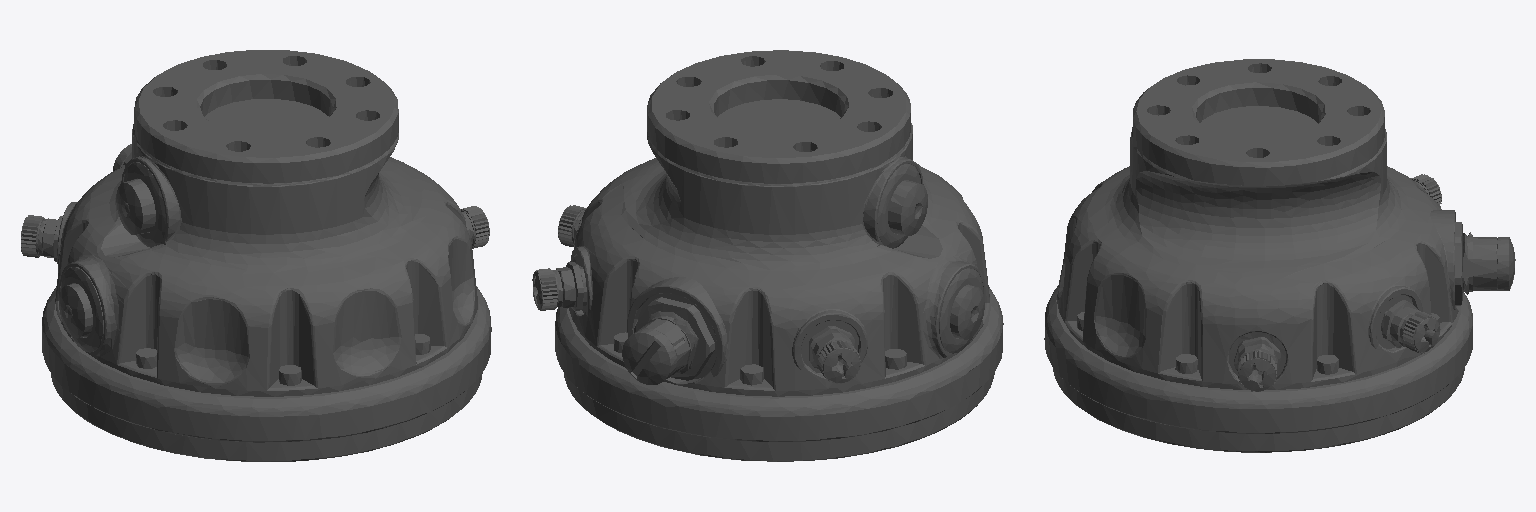
URDF robot description (iiwa_1):
<?xml version="1.0" ?>
<!-- =================================================================================== -->
<!-- |    This document was autogenerated by xacro from iiwa_striker.urdf.xacro        | -->
<!-- |    EDITING THIS FILE BY HAND IS NOT RECOMMENDED                                 | -->
<!-- =================================================================================== -->
<robot name="iiwa_1">
  <material name="Black">
    <color rgba="0.0 0.0 0.0 1.0"/>
  </material>
  <material name="Blue">
    <color rgba="0.0 0.0 0.8 1.0"/>
  </material>
  <material name="Green">
    <color rgba="0.0 0.8 0.0 1.0"/>
  </material>
  <material name="Grey">
    <color rgba="0.4 0.4 0.4 1.0"/>
  </material>
  <material name="Orange">
    <color rgba="1.0 0.4235294117647059 0.0392156862745098 1.0"/>
  </material>
  <material name="Brown">
    <color rgba="0.8705882352941177 0.8117647058823529 0.7647058823529411 1.0"/>
  </material>
  <material name="Red">
    <color rgba="0.8 0.0 0.0 1.0"/>
  </material>
  <material name="White">
    <color rgba="1.0 1.0 1.0 1.0"/>
  </material>
  <material name="LightGrey">
    <color rgba="0.3 0.3 0.3 1.0"/>
  </material>
  <link name="world"/>
  <!--joint between {parent} and link_0-->
  <joint name="iiwa_1/base_joint" type="fixed">
    <origin rpy="0 0 0" xyz="0 0 0"/>
    <parent link="world"/>
    <child link="iiwa_1/link_0"/>
  </joint>
  <link name="iiwa_1/link_0">
    <inertial>
      <origin rpy="0 0 0" xyz="-0.1 0 0.07"/>
      <mass value="5"/>
      <inertia ixx="0.05" ixy="0" ixz="0" iyy="0.06" iyz="0" izz="0.03"/>
    </inertial>
    <visual>
      <origin rpy="0 0 0" xyz="0 0 0"/>
      <geometry>
        <mesh filename="meshes/visual/link_0.stl"/>
      </geometry>
      <material name="Grey"/>
    </visual>
    <collision>
      <origin rpy="0 0 0" xyz="0 0 0"/>
      <geometry>
        <mesh filename="meshes/collision/link_0.stl"/>
      </geometry>
      <material name="Grey"/>
    </collision>
    <self_collision_checking>
      <origin rpy="0 0 0" xyz="0 0 0"/>
      <geometry>
        <capsule length="0.25" radius="0.15"/>
      </geometry>
    </self_collision_checking>
  </link>
  <!-- joint between link_0 and link_1 -->
  <joint name="iiwa_1/joint_1" type="revolute">
    <parent link="iiwa_1/link_0"/>
    <child link="iiwa_1/link_1"/>
    <origin rpy="0 0 0" xyz="0 0 0.1575"/>
    <axis xyz="0 0 1"/>
    <limit effort="320" lower="-2.9670597283903604" upper="2.9670597283903604" velocity="1.4835298641951802"/>
    <safety_controller k_position="100" k_velocity="10" soft_lower_limit="-2.9321531433504737" soft_upper_limit="2.9321531433504737"/>
    <!--      <dynamics damping="0.24150"  friction="0.31909"/> &lt;!&ndash; ETH &ndash;&gt;-->
    <dynamics damping="0.330320" friction="0.384477"/>
  </joint>
  <link name="iiwa_1/link_1">
    <inertial>
      <!-- ETH
          <origin xyz="-0.003508 0.001602 -0.03139" rpy="0 0 0"/>
          <mass value="3.947808"/>
          <inertia ixx="0.004554"  ixy="0.00000"  ixz="-0.00000" iyy="0.00454" iyz="0.00001" izz="0.00029" />
          -->
      <mass value="2.356723"/>
      <origin rpy="0 0 0" xyz="0.000000 0.000000 -0.249990"/>
      <!--          <inertia ixx="0.099939"  ixy="-0.000029"  iyy="0.099716" ixz="-0.000026" iyz="0.000099" izz="0.001000" />-->
      <inertia ixx="0.1" ixy="0" ixz="0" iyy="0.1" iyz="0" izz="0.01"/>
    </inertial>
    <visual>
      <origin rpy="0 0 0" xyz="0 0 0"/>
      <geometry>
        <mesh filename="meshes/visual/link_1.stl"/>
      </geometry>
      <material name="Orange"/>
    </visual>
    <collision>
      <origin rpy="0 0 0" xyz="0 0 0"/>
      <geometry>
        <mesh filename="meshes/collision/link_1.stl"/>
      </geometry>
      <material name="Orange"/>
    </collision>
  </link>
  <!-- joint between link_1 and link_2 -->
  <joint name="iiwa_1/joint_2" type="revolute">
    <parent link="iiwa_1/link_1"/>
    <child link="iiwa_1/link_2"/>
    <origin rpy="1.5707963267948966   0 3.141592653589793" xyz="0 0 0.2025"/>
    <axis xyz="0 0 1"/>
    <limit effort="320" lower="-2.0943951023931953" upper="2.0943951023931953" velocity="1.4835298641951802"/>
    <safety_controller k_position="100" k_velocity="10" soft_lower_limit="-2.0594885173533086" soft_upper_limit="2.0594885173533086"/>
    <!--      <dynamics damping="0.37328"  friction="0.18130"/> &lt;!&ndash; ETH &ndash;&gt;-->
    <dynamics damping="0.212160" friction="0.496333"/>
  </joint>
  <link name="iiwa_1/link_2">
    <inertial>
      <!-- ETH
          <mass value="4.502752"/>
          <origin xyz="-0.007671 0.166693  -0.003551" rpy="0 0 0"/>
          <inertia ixx="0.00032"  ixy="0.00000"  ixz="0.000007" iyy="0.000100" iyz="-0.000003" izz="0.000419" />
          -->
      <mass value="6.000000"/>
      <origin rpy="0 0 0" xyz="-0.004595 0.150863 0.028496"/>
      <inertia ixx="0.030001" ixy="-0.000999" ixz="0.000999" iyy="0.010000" iyz="-0.000999" izz="0.030001"/>
    </inertial>
    <visual>
      <origin rpy="0 0 0" xyz="0 0 0"/>
      <geometry>
        <mesh filename="meshes/visual/link_2.stl"/>
      </geometry>
      <material name="Orange"/>
    </visual>
    <collision>
      <origin rpy="0 0 0" xyz="0 0 0"/>
      <geometry>
        <mesh filename="meshes/collision/link_2.stl"/>
      </geometry>
      <material name="Orange"/>
    </collision>
  </link>
  <!-- joint between link_2 and link_3 -->
  <joint name="iiwa_1/joint_3" type="revolute">
    <parent link="iiwa_1/link_2"/>
    <child link="iiwa_1/link_3"/>
    <origin rpy="1.5707963267948966 0 3.141592653589793" xyz="0 0.2045 0"/>
    <axis xyz="0 0 1"/>
    <limit effort="176" lower="-2.9670597283903604" upper="2.9670597283903604" velocity="1.7453292519943295"/>
    <safety_controller k_position="100" k_velocity="10" soft_lower_limit="-2.9321531433504737" soft_upper_limit="2.9321531433504737"/>
    <!--      <dynamics damping="0.11025"  friction="0.07302"/> &lt;!&ndash; ETH &ndash;&gt;-->
    <dynamics damping="0.100000" friction="0.173951"/>
  </joint>
  <link name="iiwa_1/link_3">
    <inertial>
      <!-- ETH
          <mass value="2.455197"/>
          <origin xyz="-0.002246 -0.034918 -0.02652" rpy="0 0 0"/>
          <inertia ixx="0.002233"  ixy="-0.000046"  ixz="0.000068" iyy="0.002191" iyz="0.000072" izz="0.000725" />
          -->
      <mass value="6.00000"/>
      <origin rpy="0 0 0" xyz="-0.006630 -0.001947 -0.057071"/>
      <inertia ixx="0.03001" ixy="-0.000999" ixz="0.000999" iyy="0.030001" iyz="-0.000999" izz="0.010000"/>
    </inertial>
    <visual>
      <origin rpy="0 0 0" xyz="0 0 0"/>
      <geometry>
        <mesh filename="meshes/visual/link_3.stl"/>
      </geometry>
      <material name="Orange"/>
    </visual>
    <collision>
      <origin rpy="0 0 0" xyz="0 0 0"/>
      <geometry>
        <mesh filename="meshes/collision/link_3.stl"/>
      </geometry>
      <material name="Orange"/>
    </collision>
  </link>
  <!-- joint between link_3 and link_4 -->
  <joint name="iiwa_1/joint_4" type="revolute">
    <parent link="iiwa_1/link_3"/>
    <child link="iiwa_1/link_4"/>
    <origin rpy="1.5707963267948966 0 0" xyz="0 0 0.2155"/>
    <axis xyz="0 0 1"/>
    <limit effort="176" lower="-2.0943951023931953" upper="2.0943951023931953" velocity="1.3089969389957472"/>
    <safety_controller k_position="100" k_velocity="10" soft_lower_limit="-2.0594885173533086" soft_upper_limit="2.0594885173533086"/>
    <!--      <dynamics damping="0.10000"  friction="0.17671"/> &lt;!&ndash; ETH &ndash;&gt;-->
    <dynamics damping="0.219041" friction="0.375100"/>
  </joint>
  <link name="iiwa_1/link_4">
    <inertial>
      <!-- ETH
          <mass value="2.611550"/>
          <origin xyz="0.000196 -0.052679 0.038182" rpy="0 0 0"/>
          <inertia ixx="0.038444"  ixy="0.000880"  ixz="-0.001120" iyy="0.011437" iyz="-0.001113" izz=" 0.049880" />
          -->
      <mass value="1.224529"/>
      <origin rpy="0 0 0" xyz="0.044234 0.050000 0.006944"/>
      <inertia ixx="0.003001" ixy="0.000099" ixz="-0.000099" iyy="0.001000" iyz="0.000099" izz="0.003001"/>
    </inertial>
    <visual>
      <origin rpy="0 0 0" xyz="0 0 0"/>
      <geometry>
        <mesh filename="meshes/visual/link_4.stl"/>
      </geometry>
      <material name="Orange"/>
    </visual>
    <collision>
      <origin rpy="0 0 0" xyz="0 0 0"/>
      <geometry>
        <mesh filename="meshes/collision/link_4.stl"/>
      </geometry>
      <material name="Orange"/>
    </collision>
  </link>
  <!-- joint between link_4 and link_5 -->
  <joint name="iiwa_1/joint_5" type="revolute">
    <parent link="iiwa_1/link_4"/>
    <child link="iiwa_1/link_5"/>
    <origin rpy="-1.5707963267948966 3.141592653589793 0" xyz="0 0.1845 0"/>
    <axis xyz="0 0 1"/>
    <limit effort="110" lower="-2.9670597283903604" upper="2.9670597283903604" velocity="2.2689280275926285"/>
    <safety_controller k_position="100" k_velocity="10" soft_lower_limit="-2.9321531433504737" soft_upper_limit="2.9321531433504737"/>
    <!--      <dynamics damping="0.10000"  friction="0.03463"/> &lt;!&ndash; ETH &ndash;&gt;-->
    <dynamics damping="0.185923" friction="0.481099"/>
  </joint>
  <link name="iiwa_1/link_5">
    <inertial>
      <!-- ETH
          <mass value="3.410009"/>
          <origin xyz="0.000054  -0.002367 -0.21134" rpy="0 0 0"/>
          <inertia ixx="0.002769"  ixy="-0.000008"  ixz="0.000006" iyy="0.002842" iyz="-0.000001" izz="0.000117" />
          -->
      <mass value="6.00000"/>
      <origin rpy="0 0 0" xyz="-0.002930 0.015256 0.035846"/>
      <inertia ixx="0.003001" ixy="-0.000099" ixz="-0.000099" iyy="0.003001" iyz="0.000099" izz="0.001000"/>
    </inertial>
    <visual>
      <origin rpy="0 0 0" xyz="0 0 0"/>
      <geometry>
        <mesh filename="meshes/visual/link_5.stl"/>
      </geometry>
      <material name="Orange"/>
    </visual>
    <collision>
      <origin rpy="0 0 0" xyz="0 0 0"/>
      <geometry>
        <mesh filename="meshes/collision/link_5.stl"/>
      </geometry>
      <material name="Orange"/>
    </collision>
  </link>
  <!-- joint between link_5 and link_6 -->
  <joint name="iiwa_1/joint_6" type="revolute">
    <parent link="iiwa_1/link_5"/>
    <child link="iiwa_1/link_6"/>
    <origin rpy="1.5707963267948966 0 0" xyz="0 0 0.2155"/>
    <axis xyz="0 0 1"/>
    <limit effort="40" lower="-2.0943951023931953" upper="2.0943951023931953" velocity="2.356194490192345"/>
    <safety_controller k_position="100" k_velocity="10" soft_lower_limit="-2.0594885173533086" soft_upper_limit="2.0594885173533086"/>
    <!--      <dynamics damping="0.12484"  friction="0.13391"/> &lt;!&ndash; ETH &ndash;&gt;-->
    <dynamics damping="0.100000" friction="0.196149"/>
  </joint>
  <link name="iiwa_1/link_6">
    <inertial>
      <!-- ETH
          <mass value="3.387949"/>
          <origin xyz="0.000492  0.020190  -0.027496" rpy="0 0 0"/>
          <inertia ixx="0.000500"  ixy="-0.000050"  ixz="-0.000024" iyy="0.002809" iyz="-0.000041" izz="0.002315" />
          -->
      <mass value="1.410742"/>
      <origin rpy="0 0 0" xyz="0.015383 -0.046263 0.011131"/>
      <inertia ixx="0.001000" ixy="0.000099" ixz="0.000099" iyy="0.001000" iyz="0.000099" izz="0.001000"/>
    </inertial>
    <visual>
      <origin rpy="0 0 0" xyz="0 0 0"/>
      <geometry>
        <mesh filename="meshes/visual/link_6.stl"/>
      </geometry>
      <material name="Orange"/>
    </visual>
    <collision>
      <origin rpy="0 0 0" xyz="0 0 0"/>
      <geometry>
        <mesh filename="meshes/collision/link_6.stl"/>
      </geometry>
      <material name="Orange"/>
    </collision>
  </link>
  <!-- joint between link_6 and link_7 -->
  <joint name="iiwa_1/joint_7" type="revolute">
    <parent link="iiwa_1/link_6"/>
    <child link="iiwa_1/link_7"/>
    <origin rpy="-1.5707963267948966 3.141592653589793 0" xyz="0 0.081 0"/>
    <axis xyz="0 0 1"/>
    <limit effort="40" lower="-3.0543261909900763" upper="3.0543261909900763" velocity="2.356194490192345"/>
    <safety_controller k_position="100" k_velocity="10" soft_lower_limit="-3.01941960595019" soft_upper_limit="3.01941960595019"/>
    <!--      <dynamics damping="0.10000"  friction="0.08710"/> &lt;!&ndash; ETH &ndash;&gt;-->
    <dynamics damping="0.100000" friction="0.299238"/>
  </joint>
  <link name="iiwa_1/link_7">
    <inertial>
      <!-- ETH
          <mass value="0.354321"/>
          <origin xyz="-0.034656 -0.023242 0.07138" rpy="0 0 0"/>
          <inertia ixx="0.007946"  ixy="0.000221"  ixz="-0.000294" iyy=" 0.010889" iyz="-0.000294" izz="0.002944" />
          -->
      <mass value="1.00000"/>
      <origin rpy="0 0 0" xyz="0.001241 0.004168 0.100000"/>
      <inertia ixx="0.001000" ixy="-0.000099" ixz="-0.000099" iyy="0.001000" iyz="0.000099" izz="0.001000"/>
    </inertial>
    <visual>
      <origin rpy="0 0 0" xyz="0 0 0"/>
      <geometry>
        <mesh filename="meshes/visual/link_7.stl"/>
      </geometry>
      <material name="Grey"/>
    </visual>
    <collision>
      <origin rpy="0 0 0" xyz="0 0 0"/>
      <geometry>
        <mesh filename="meshes/collision/link_7.stl"/>
      </geometry>
      <material name="Grey"/>
    </collision>
  </link>
  <joint name="iiwa_1/joint_ee" type="fixed">
    <parent link="iiwa_1/link_7"/>
    <child link="iiwa_1/link_ee"/>
    <origin rpy="0 0 0" xyz="0 0 0.07"/>
  </joint>
  <link name="iiwa_1/link_ee">
    <inertial>
      <origin rpy="0 0 0" xyz="0 0 0.0"/>
      <mass value="0.0"/>
      <inertia ixx="0.0" ixy="0.0" ixz="0.0" iyy="0.0" iyz="0.0" izz="0.0"/>
    </inertial>
  </link>
  <joint name="iiwa_1/striker" type="fixed">
    <parent link="iiwa_1/link_ee"/>
    <child link="iiwa_1/striker_base"/>
    <origin rpy="0 0 0" xyz="0.0 0.0 0.0"/>
  </joint>
  <link name="iiwa_1/striker_base">
    <inertial>
      <origin rpy="0 0 0" xyz="0 0 0.156"/>
      <mass value="0.350"/>
      <!--                <inertia ixx="0.000297" ixy="0.0" ixz="0.0"-->
      <!--                         iyy="0.000271" iyz="0.0" izz="0.0000653"/>-->
      <inertia ixx="0.005" ixy="0.0" ixz="0.0" iyy="0.005" iyz="0.0" izz="0.001"/>
    </inertial>
    <visual>
      <origin rpy="0 0.0 0" xyz="0 0 0"/>
      <geometry>
        <mesh filename="meshes/striker/visual/EE_arm.stl"/>
      </geometry>
      <material name="LightGrey"/>
    </visual>
    <collision>
      <origin rpy="0 0 0" xyz="0 0 0"/>
      <geometry>
        <mesh filename="meshes/striker/collision/EE_arm_collision.stl"/>
      </geometry>
    </collision>
  </link>
  <joint name="iiwa_1/extension" type="fixed">
    <parent link="iiwa_1/link_7"/>
    <child link="iiwa_1/extension_tip"/>
    <origin rpy="0 0 0" xyz="0.0 0.0 0.515"/>
  </joint>
  <link name="iiwa_1/extension_tip">
    <inertial>
      <origin rpy="0 0 0" xyz="0 0 0.0"/>
      <mass value="0.01"/>
      <inertia ixx="0.0001" ixy="0.0" ixz="0.0" iyy="0.0001" iyz="0.0" izz="0.0001"/>
    </inertial>
  </link>
  <joint name="iiwa_1/striker_joint_1" type="revolute">
    <parent link="iiwa_1/striker_base"/>
    <child link="iiwa_1/striker_joint_link"/>
    <origin rpy="0 0 0" xyz="0.0 0.0 0.515"/>
    <axis xyz="0 1 0"/>
    <limit effort="10" lower="-1.5707963267948966" upper="1.5707963267948966" velocity="3.1415926"/>
    <safety_controller k_position="100" k_velocity="2" soft_lower_limit="-2.094395102" soft_upper_limit="2.094395102"/>
    <dynamics damping="0.01"/>
  </joint>
  <link name="iiwa_1/striker_joint_link">
    <inertial>
      <origin rpy="0 0 0" xyz="0 0.0 0"/>
      <mass value="0.1"/>
      <inertia ixx="0.001" ixy="0.0" ixz="0.0" iyy="0.001" iyz="0.0" izz="0.001"/>
    </inertial>
  </link>
  <joint name="iiwa_1/striker_joint_2" type="revolute">
    <parent link="iiwa_1/striker_joint_link"/>
    <child link="iiwa_1/striker_mallet"/>
    <origin rpy="0 0 0" xyz="0.0 0.0 0.0"/>
    <axis xyz="1 0 0"/>
    <limit effort="10" lower="-1.5707963267948966" upper="1.5707963267948966" velocity="3.1415926"/>
    <safety_controller k_position="100" k_velocity="2" soft_lower_limit="-2.094395102" soft_upper_limit="2.094395102"/>
    <dynamics damping="0.01"/>
  </joint>
  <link name="iiwa_1/striker_mallet">
    <inertial>
      <origin rpy="0 0 0" xyz="0 0.0 0.078"/>
      <mass value="0.183"/>
      <inertia ixx="0.0001" ixy="0.0" ixz="0.0" iyy="0.0001" iyz="0.0" izz="0.0001"/>
    </inertial>
    <visual>
      <origin rpy="0.0 0.0 0" xyz="0 0.0 0.0"/>
      <geometry>
        <!--                    <mesh filename="meshes/striker/visual/EE_mallet.stl"/>-->
        <mesh filename="meshes/striker/visual/EE_mallet_short.stl"/>
      </geometry>
      <material name="LightGrey"/>
    </visual>
    <collision>
      <origin rpy="0.0 0.0 0" xyz="0 0.0 0.0"/>
      <geometry>
        <!--                    <mesh filename="meshes/striker/collision/EE_mallet_collision.stl"/>-->
        <mesh filename="meshes/striker/collision/EE_mallet_short_collision.stl"/>
      </geometry>
    </collision>
  </link>
  <joint name="iiwa_1/striker_mallet_fix" type="fixed">
    <parent link="iiwa_1/striker_mallet"/>
    <child link="iiwa_1/striker_mallet_tip"/>
    <!--            <origin xyz="0.0 0.0 0.095" rpy="0 0 0"/>-->
    <origin rpy="0 0 0" xyz="0.0 0.0 0.0505"/>
    <axis xyz="1 0 0"/>
  </joint>
  <!--  The striker frame is here defined -->
  <link name="iiwa_1/striker_mallet_tip">
    <inertial>
      <origin rpy="0 0 0" xyz="0 0 0.0"/>
      <mass value="0.1"/>
      <inertia ixx="0.0001" ixy="0.0" ixz="0.0" iyy="0.0001" iyz="0.0" izz="0.0001"/>
    </inertial>
  </link>
</robot>

--- Render facts (derived) ---
The picture shows the robot from 3 angles, left to right: view 1: azimuth 30°, elevation 25°; view 2: azimuth 150°, elevation 25°; view 3: azimuth 270°, elevation 25°; orthographic projection.
Model iiwa_1 with 15 links and 14 joints (9 revolute, 5 fixed), rooted at world, posed every joint at zero.
Links seen in each view (by area): view 1: iiwa_1/link_7; view 2: iiwa_1/link_7; view 3: iiwa_1/link_7.
Boxes of the visible links, left/top/right/bottom form: iiwa_1/link_7: left=21, top=50, right=491, bottom=461; iiwa_1/link_7: left=532, top=50, right=1003, bottom=461; iiwa_1/link_7: left=1044, top=59, right=1515, bottom=452.
Bounding box of the posed robot: 0.1132 × 0.1175 × 0.0705 m (x, y, z).
1 mesh visuals loaded from 10 distinct referenced files (1 binary STL); not drawn: 9 (reference not matched to a file when rendering).